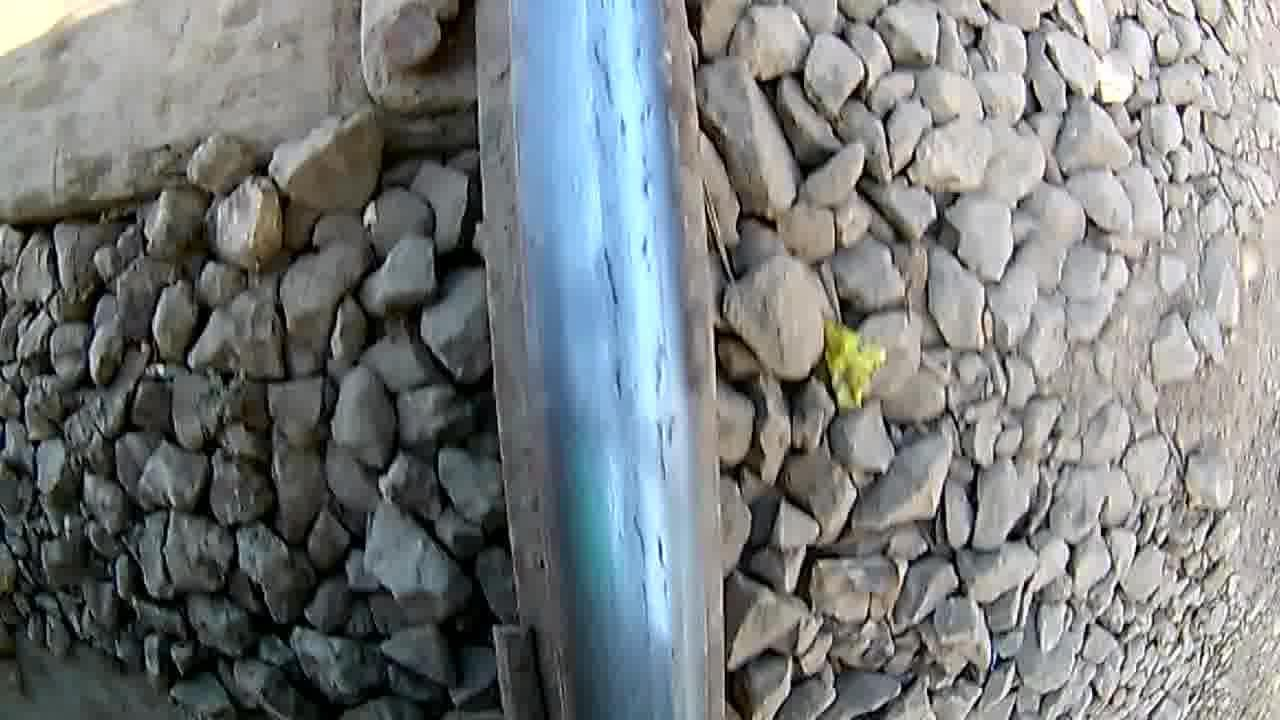crack: (580, 38, 680, 596)
